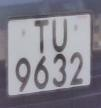2: (66, 48, 89, 88)
3: (51, 51, 70, 91)
6: (32, 54, 52, 93)
9: (14, 53, 33, 97)
T: (28, 16, 53, 56)
U: (49, 16, 69, 54)
